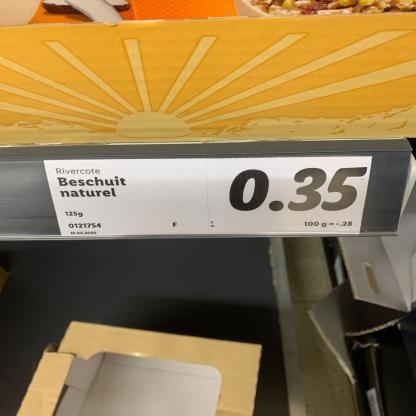prtg: (44, 156, 373, 239)
